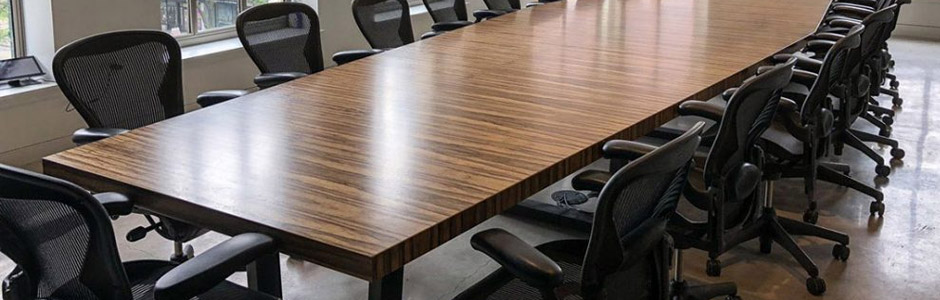conference_table: (41, 1, 832, 282)
